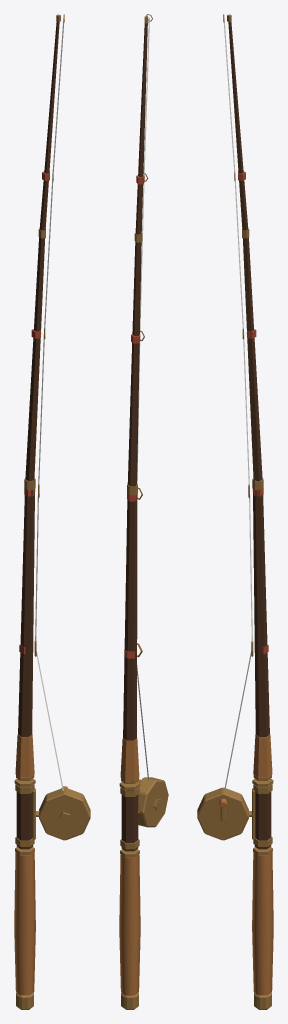
Rendered from tool_fishing_rod_a.glb.
3 views of the same model, side by side, from view 1: azimuth 90°, elevation 25°; view 2: azimuth 150°, elevation 25°; view 3: azimuth 270°, elevation 25° (orthographic).
Parts seen in each view (by area): view 1: rod_blank_section_1, rod_foregrip, rod_butt_cap, rod_line_segment_00, rod_guide_wrap_00; view 2: rod_blank_section_1, rod_foregrip, rod_butt_cap, rod_line_segment_00, rod_guide_wrap_00; view 3: rod_blank_section_1, rod_foregrip, rod_butt_cap, rod_line_segment_00, rod_guide_wrap_00.
Part boxes in pixels (x1=…): rod_blank_section_1: x1=16, y1=21, x2=59, y2=849; rod_foregrip: x1=14, y1=734, x2=67, y2=995; rod_butt_cap: x1=14, y1=14, x2=90, y2=1009; rod_line_segment_00: x1=35, y1=18, x2=64, y2=790; rod_guide_wrap_00: x1=19, y1=171, x2=49, y2=654; rod_blank_section_1: x1=121, y1=22, x2=147, y2=851; rod_foregrip: x1=119, y1=738, x2=140, y2=995; rod_butt_cap: x1=119, y1=14, x2=168, y2=1009; rod_line_segment_00: x1=137, y1=17, x2=149, y2=780; rod_guide_wrap_00: x1=124, y1=175, x2=144, y2=658; rod_blank_section_1: x1=228, y1=21, x2=271, y2=849; rod_foregrip: x1=219, y1=734, x2=273, y2=995; rod_butt_cap: x1=197, y1=14, x2=273, y2=1009; rod_line_segment_00: x1=223, y1=18, x2=252, y2=790; rod_guide_wrap_00: x1=238, y1=171, x2=268, y2=654.
Size of the model in its own units: 0.0701 by 2.62 by 0.1832.
